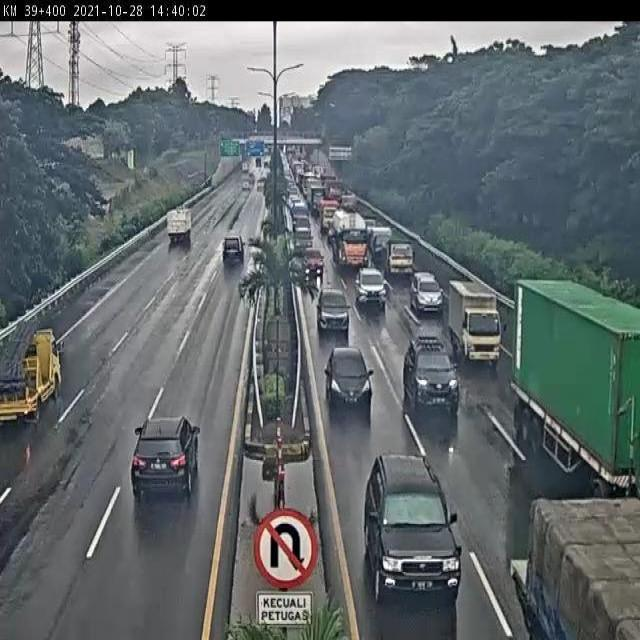car: (364, 453, 465, 600), (131, 413, 202, 504), (406, 340, 461, 412), (323, 343, 372, 403), (315, 285, 350, 331), (407, 267, 439, 309), (351, 263, 384, 303), (216, 238, 243, 270), (368, 226, 393, 258), (302, 248, 326, 279)
truck: (509, 275, 640, 480), (0, 319, 64, 428), (446, 281, 500, 364), (328, 205, 369, 271), (162, 204, 194, 247), (384, 240, 415, 280)
